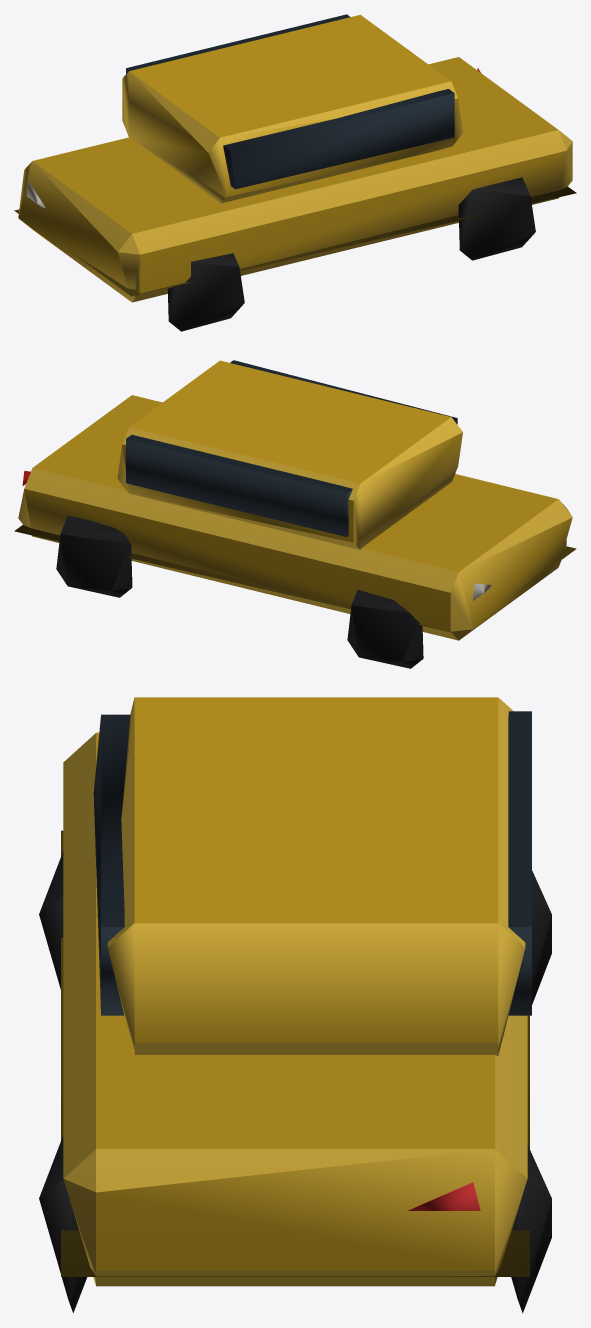
The model's file is car-sedan-v1.lod2.glb.
The picture shows the model from 3 angles, top to bottom: view 1: azimuth 30°, elevation 25°; view 2: azimuth 150°, elevation 25°; view 3: azimuth 270°, elevation 25°; orthographic projection. The views are drawn at different scales.
Visible parts, largest first — view 1: car-sedan-v1.lod2; view 2: car-sedan-v1.lod2; view 3: car-sedan-v1.lod2.
Boxes of the visible parts, x1,y1,x2,y2 form: car-sedan-v1.lod2: (14,14,576,331); car-sedan-v1.lod2: (14,360,576,668); car-sedan-v1.lod2: (39,697,551,1313).
Size of the model in its own units: 4.3 by 1.52 by 2.1.
